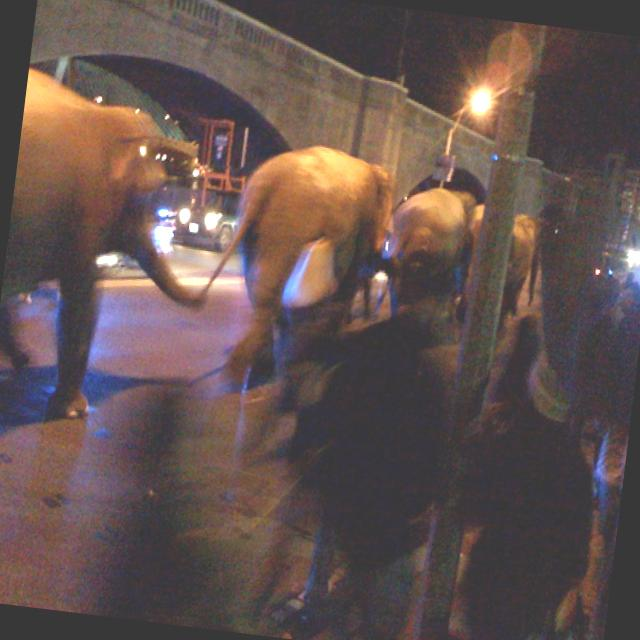Vehicle: (177, 188, 243, 252)
